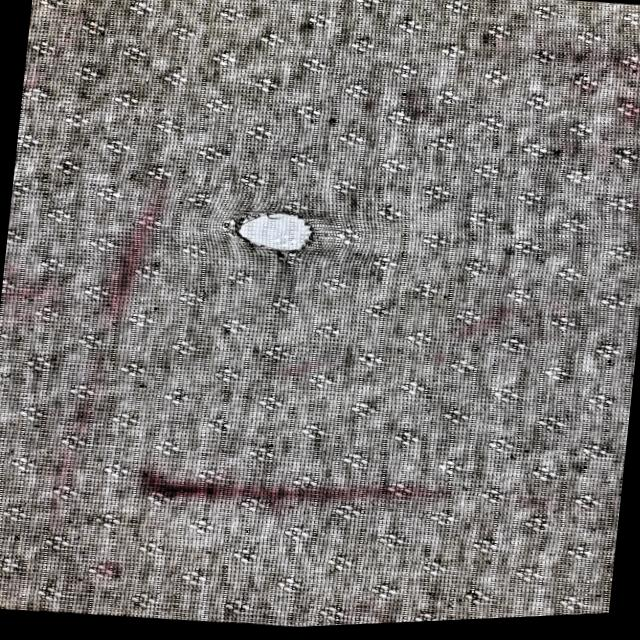Hole: (229, 193, 316, 270)
